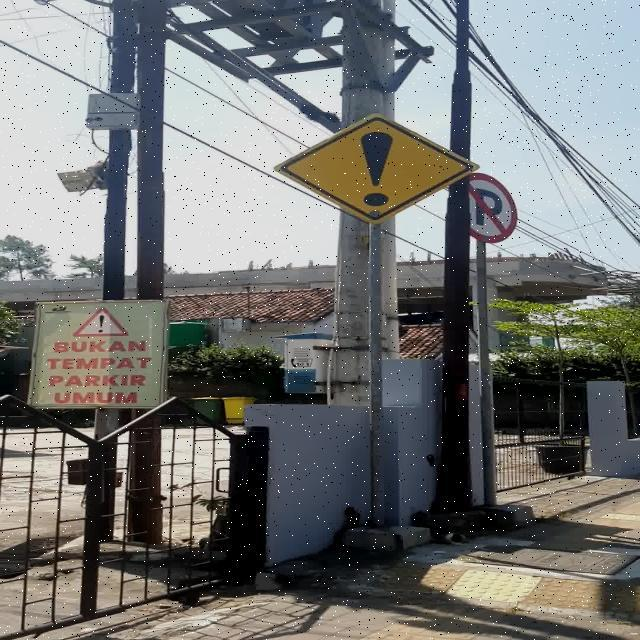Hati-Hati: (274, 113, 480, 223)
